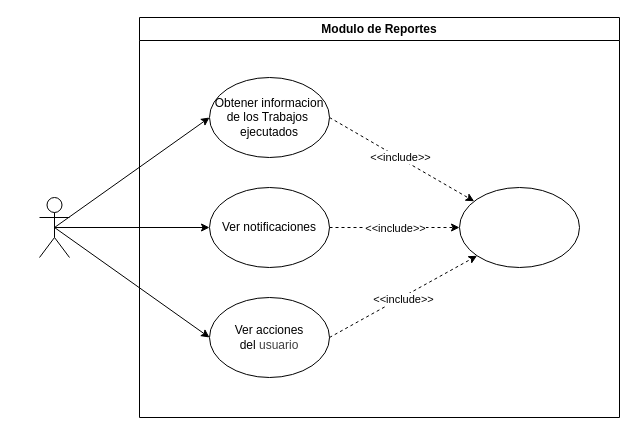
Image size: 637x435. Some labels were removed from this diagram. Each missing label, with the box of its shape:
Administrador: (38, 196, 70, 258)
Obtener trazas(logs): (458, 186, 580, 268)
